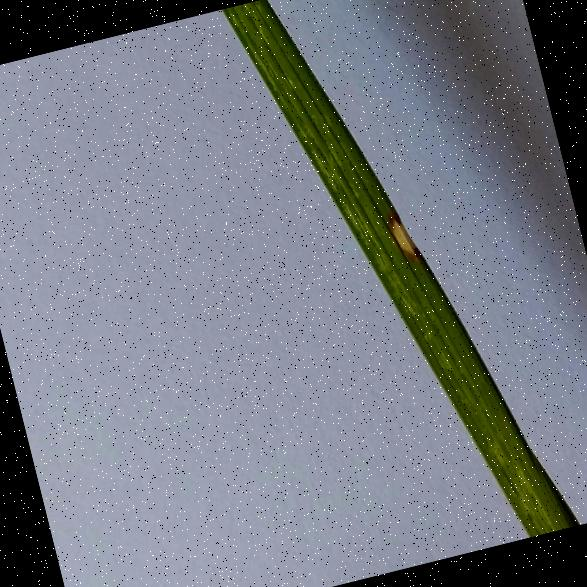Leaf_smut: (371, 196, 439, 280)
